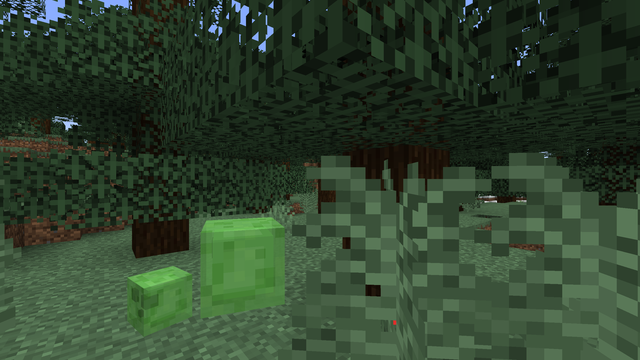slimes: (192, 214, 292, 322), (130, 263, 189, 337)
